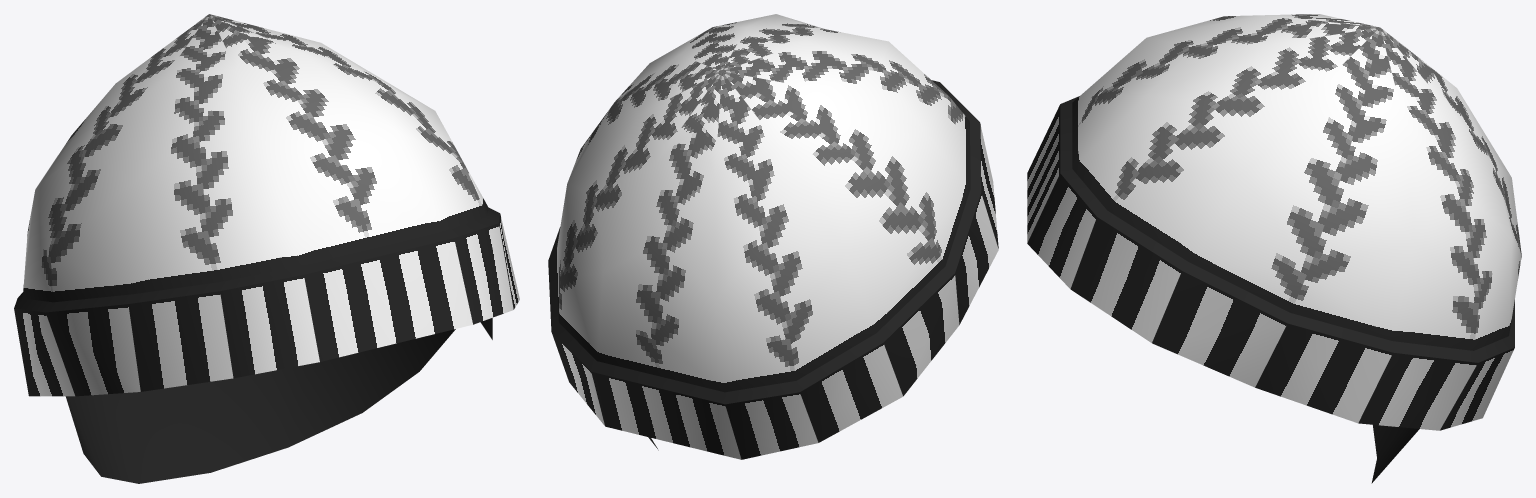
The model's file is hat_beanie.obj.
3 views of the same model, side by side, from view 1: azimuth 30°, elevation 25°; view 2: azimuth 150°, elevation 25°; view 3: azimuth 270°, elevation 25° (orthographic). The views are drawn at different scales.
Parts seen in each view (by area): view 1: hat_beanie; view 2: hat_beanie; view 3: hat_beanie.
Part boxes in pixels (box(x1,y1,x2,y2)): hat_beanie: box(14, 14, 519, 483); hat_beanie: box(548, 14, 998, 459); hat_beanie: box(1027, 14, 1521, 483).
Size of the model in its own units: 0.6073 by 0.6306 by 0.6494.
2 materials, 1 textured.
